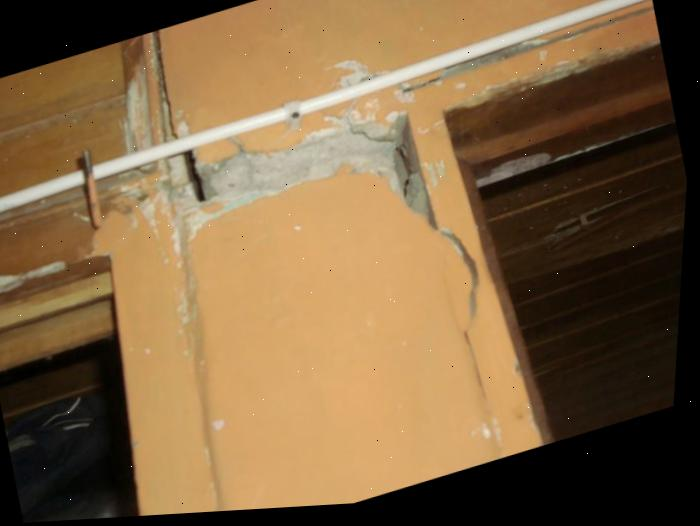spalling: (167, 113, 438, 230)
